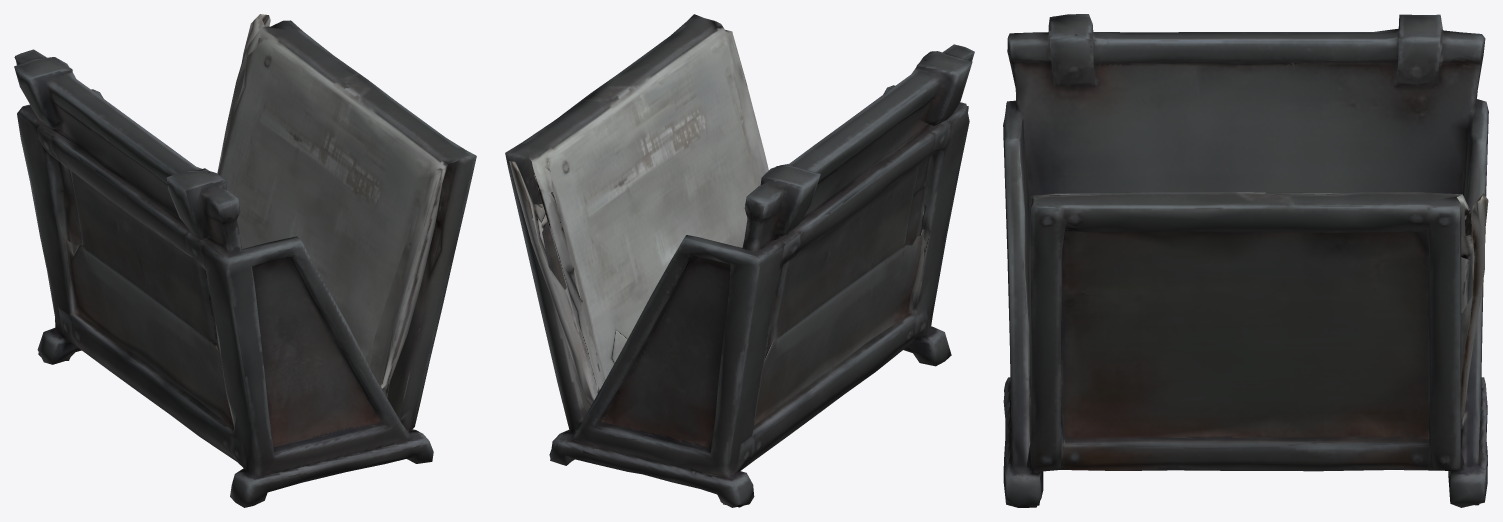
Rendered from facultyoffice_MagazineRack.glb.
3 views of the same model, side by side, from view 1: azimuth 30°, elevation 25°; view 2: azimuth 150°, elevation 25°; view 3: azimuth 270°, elevation 25° (orthographic). The views are drawn at different scales.
Visible parts, largest first — view 1: world; view 2: world; view 3: world.
Boxes of the visible parts, <box> form: world: <box>14,14,476,507</box>; world: <box>505,14,974,507</box>; world: <box>1003,14,1488,507</box>.
Bounding box in the file's own units: 0.7842 × 0.8272 × 0.9985.
1 material, 1 textured.
